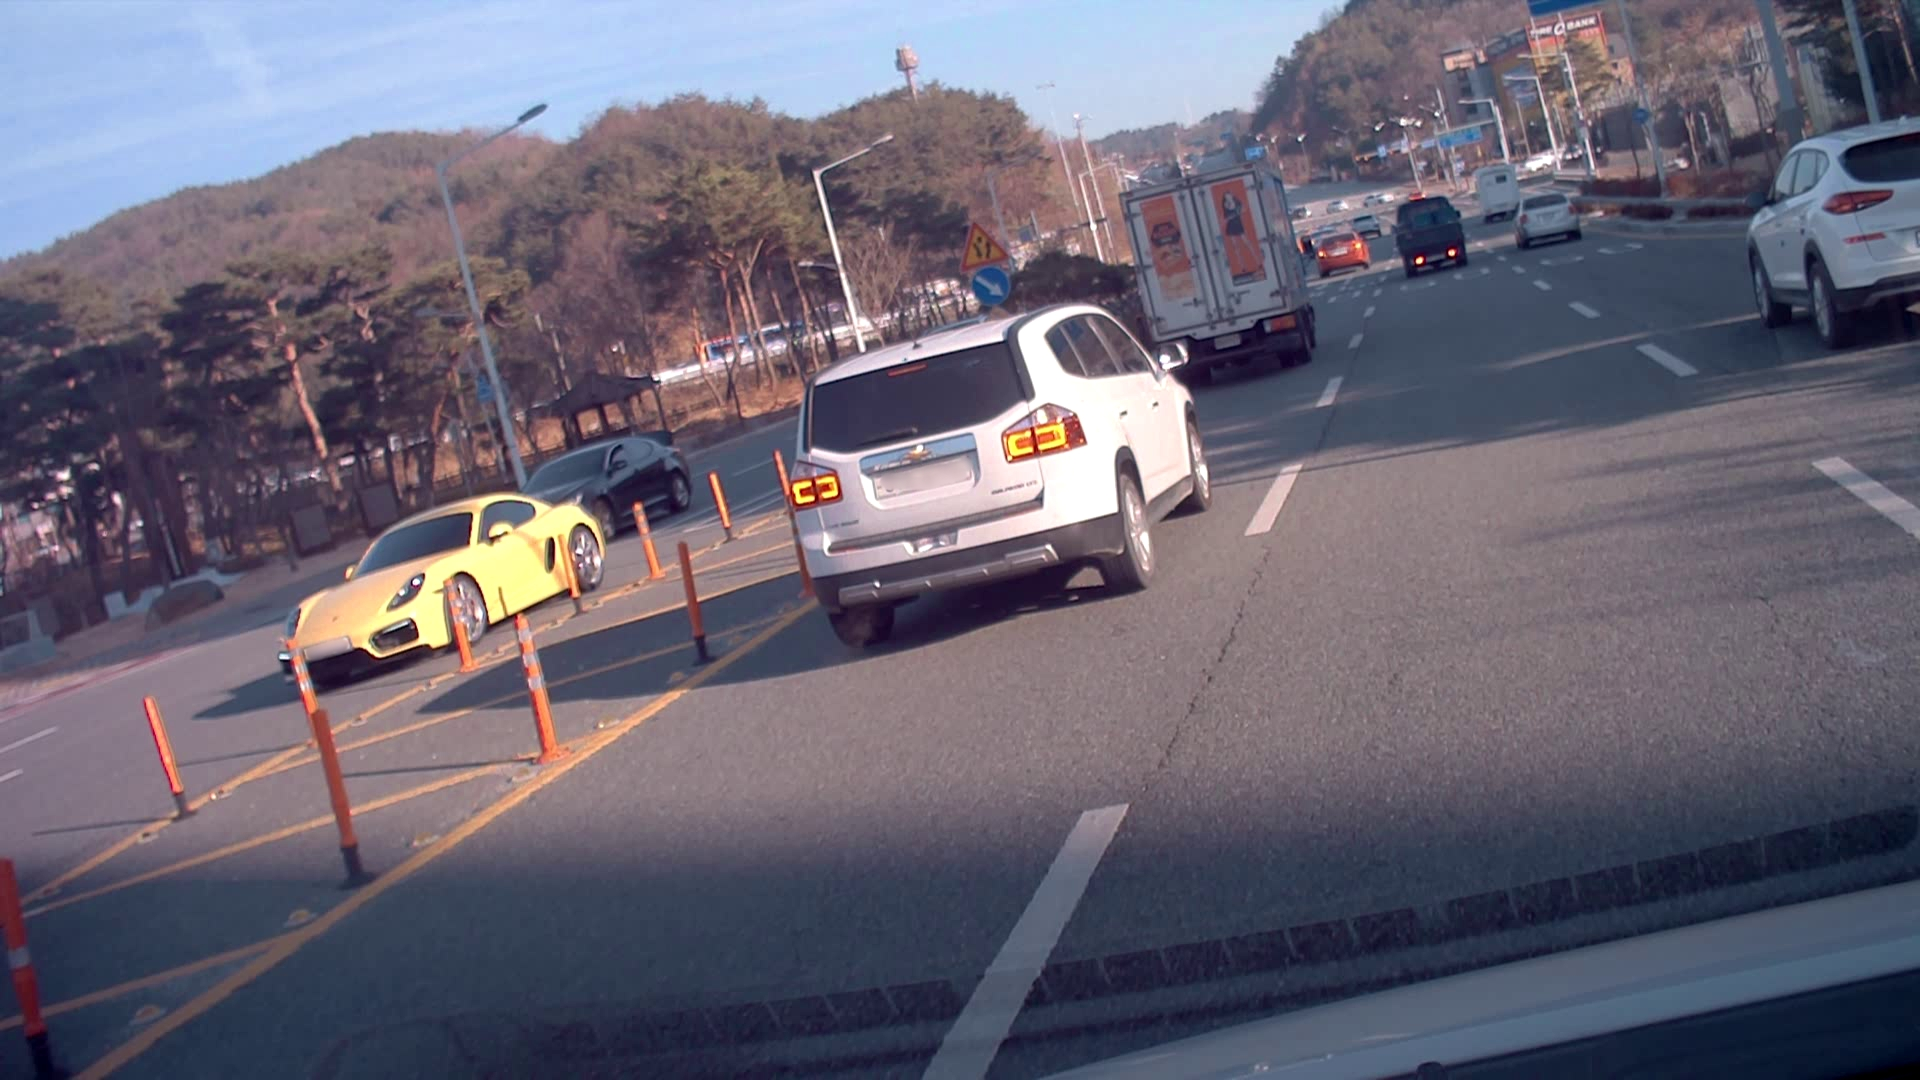trafficSignCircle: (969, 270, 1011, 310)
trafficSignTri: (957, 223, 1014, 266)
